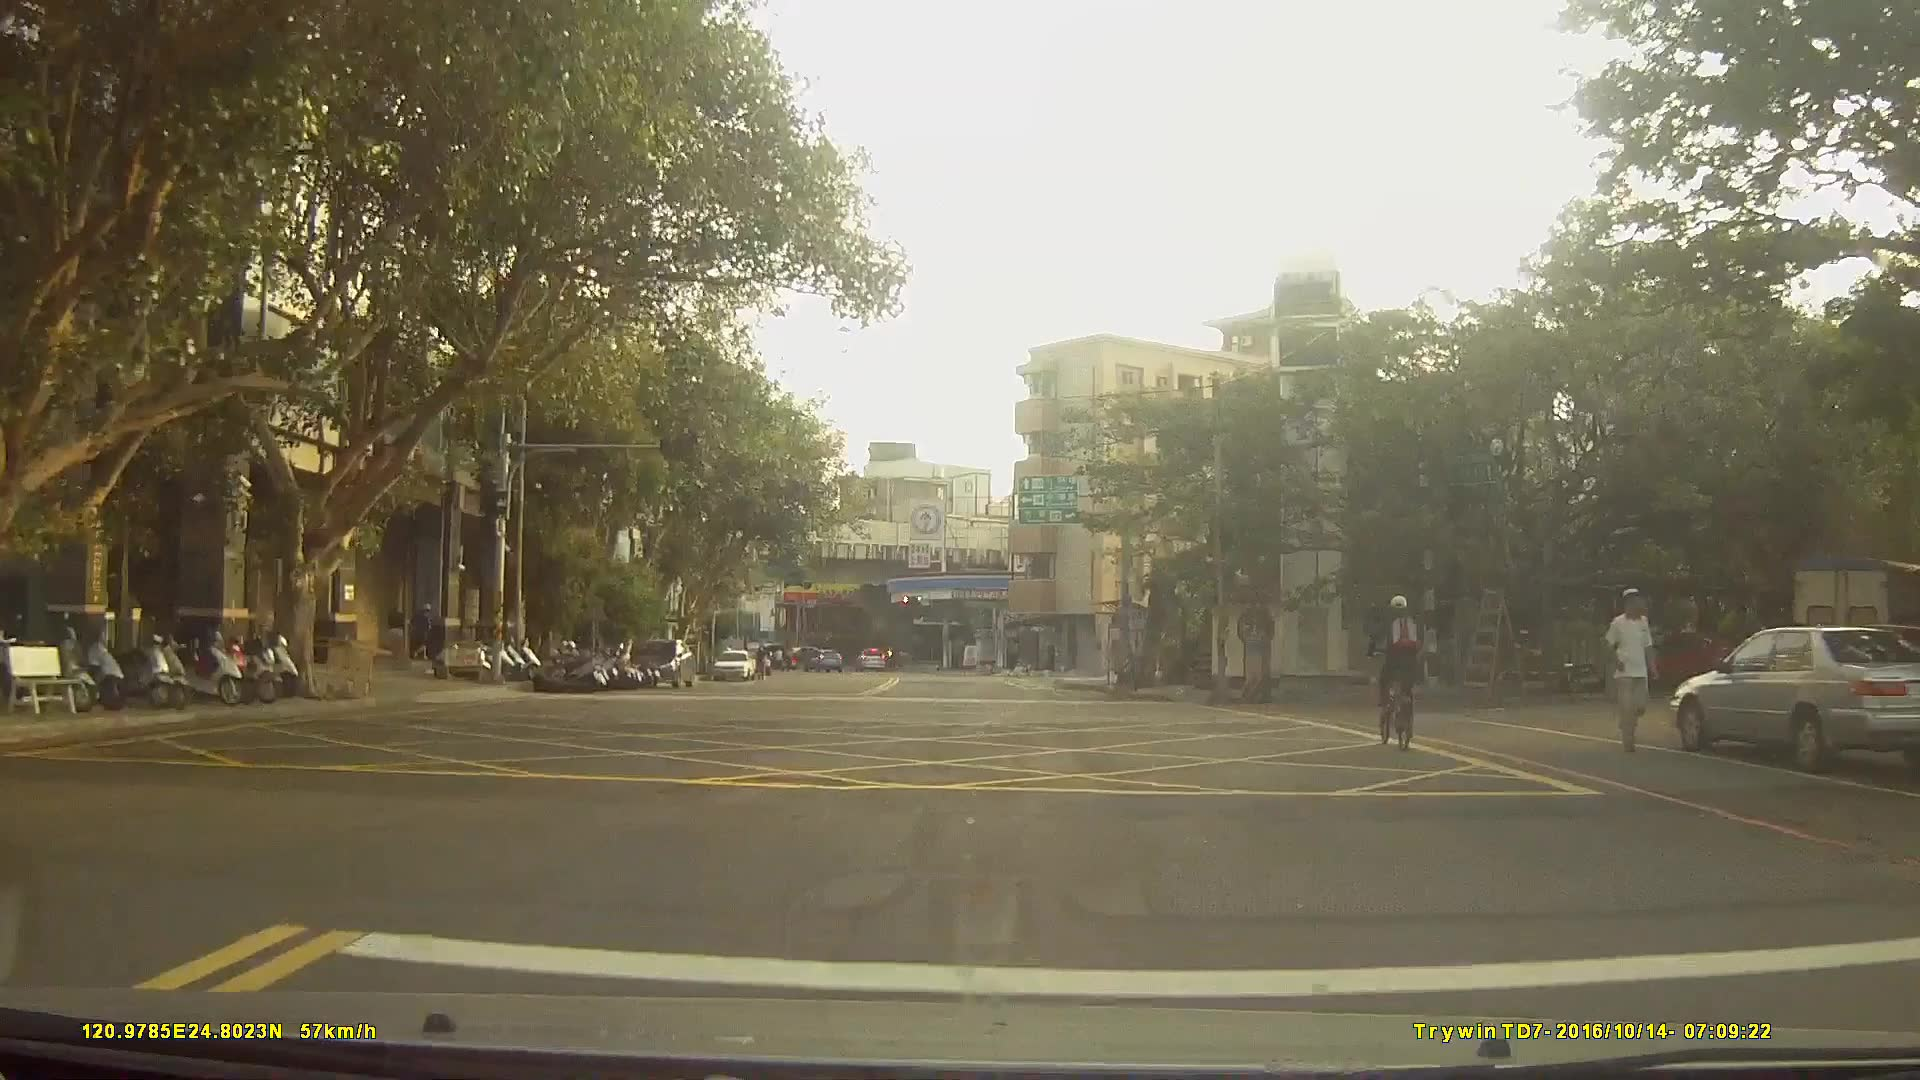pedestrian: (1601, 585, 1665, 755), (386, 600, 410, 659)
rider: (1368, 595, 1428, 745)
vehicle: (1669, 626, 1920, 773), (630, 637, 696, 689), (711, 646, 754, 680), (802, 645, 842, 670), (854, 642, 889, 668)
